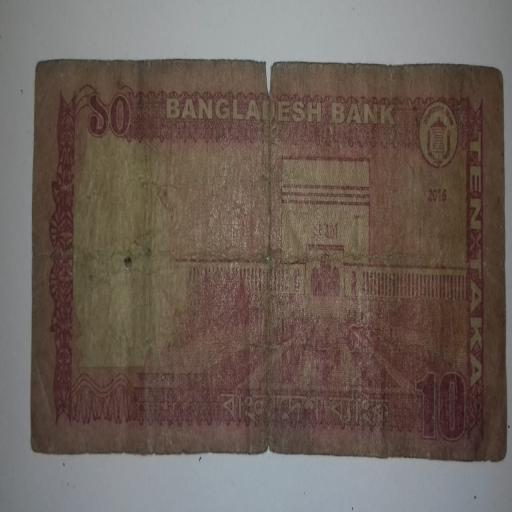10taka: (31, 65, 506, 464)
